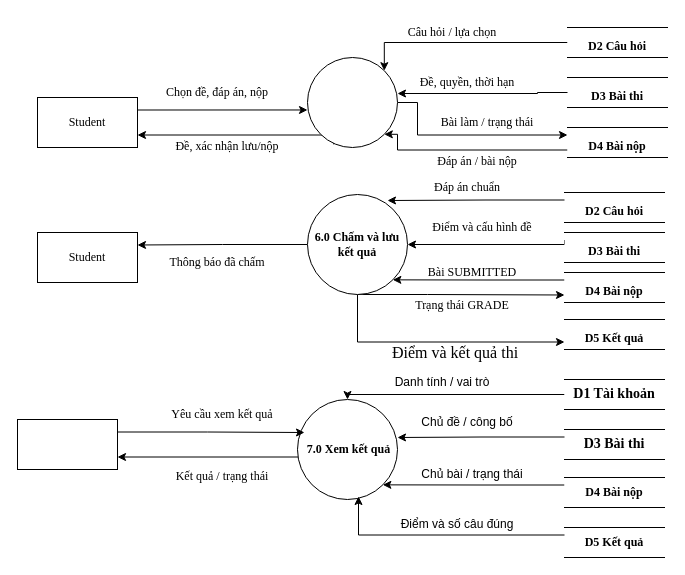
Image size: 685x575. Some labels were removed from this diagram. Here are the shapes that lost their labels. From the top down, the box of each, then its label:
(306, 56, 398, 148): 5.0 Làm và nộp bài
(16, 418, 118, 470): Teacher / Student
